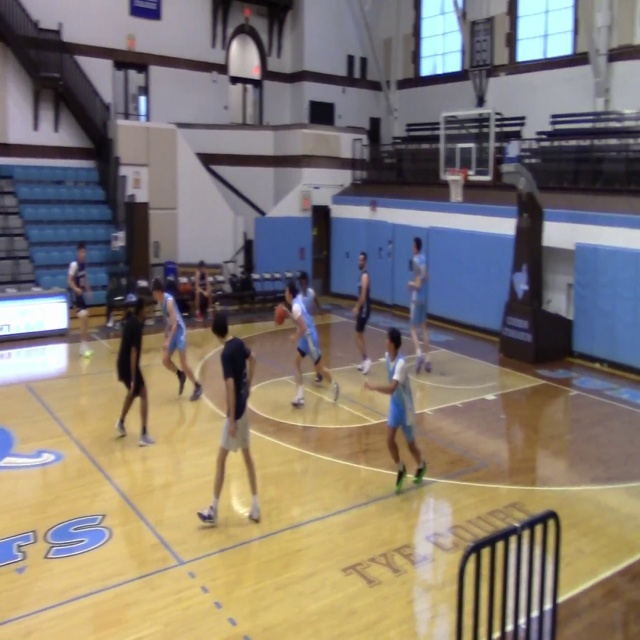Basketball: (274, 305, 288, 325), (84, 349, 93, 358)
